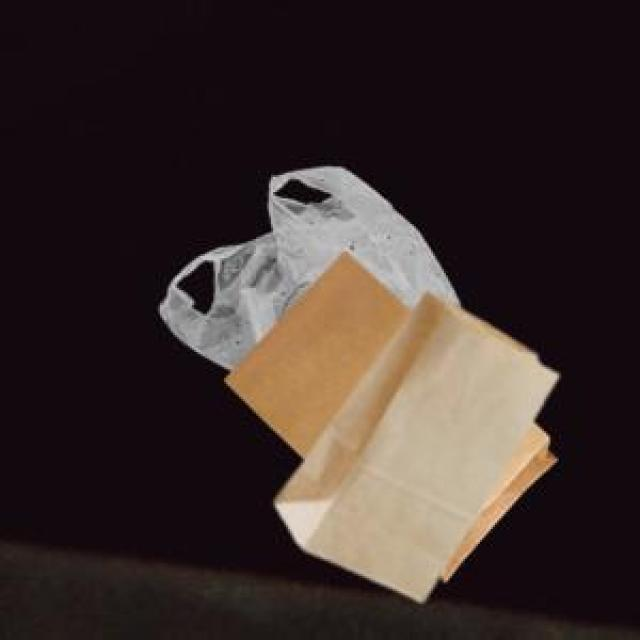paper: (222, 248, 553, 578), (271, 288, 553, 597)
